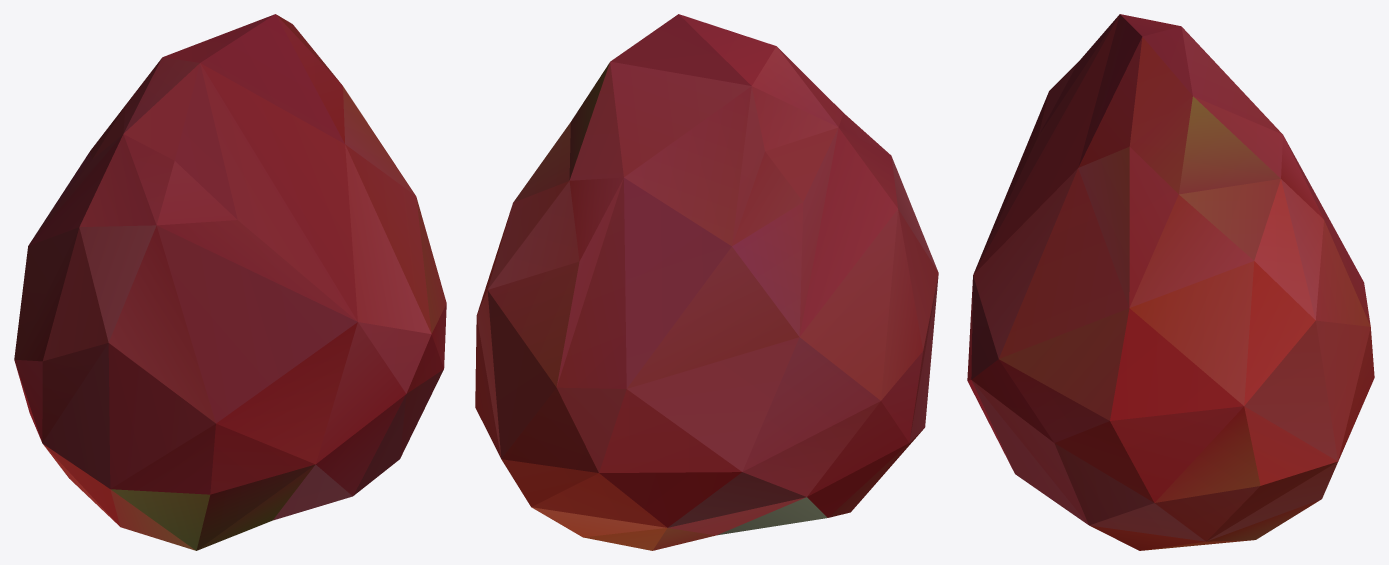
3 renders of one model, left to right at view 1: azimuth 30°, elevation 25°; view 2: azimuth 150°, elevation 25°; view 3: azimuth 270°, elevation 25°, orthographic.
Parts seen in each view (by area): view 1: strawberry_02_collision; view 2: strawberry_02_collision; view 3: strawberry_02_collision.
Boxes of the visible parts, x1,y1,x2,y2 form: strawberry_02_collision: (14, 14, 446, 550); strawberry_02_collision: (475, 14, 938, 550); strawberry_02_collision: (967, 14, 1374, 550).
Size of the model in its own units: 1.56 by 1.42 by 1.87.
